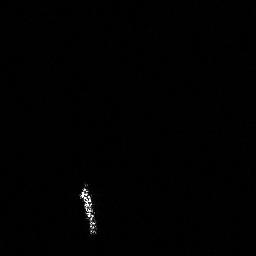ship: (75, 180, 102, 240)
